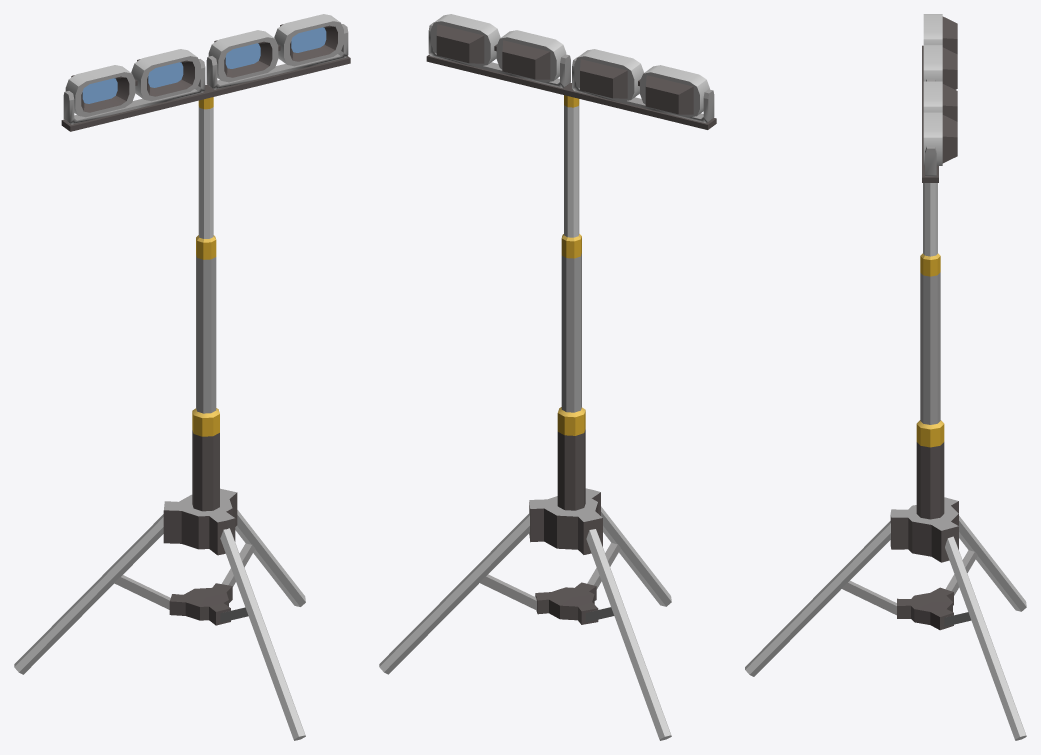
Rendered from SR_Light_portable_01.fbx.
3 renders of one model, left to right at view 1: azimuth 30°, elevation 25°; view 2: azimuth 150°, elevation 25°; view 3: azimuth 270°, elevation 25°, orthographic. The views are drawn at different scales.
Visible parts, largest first — view 1: SR_Light_portable_01, SR_Light_portable_01_2; view 2: SR_Light_portable_01, SR_Light_portable_01_2; view 3: SR_Light_portable_01, SR_Light_portable_01_2.
Boxes of the visible parts, x1,y1,x2,y2 form: SR_Light_portable_01: (14,24,350,740); SR_Light_portable_01_2: (65,14,343,117); SR_Light_portable_01: (379,22,716,740); SR_Light_portable_01_2: (430,14,709,117); SR_Light_portable_01: (745,45,1026,740); SR_Light_portable_01_2: (923,14,957,165).
Size of the model in its own units: 102 by 209 by 88.35.
